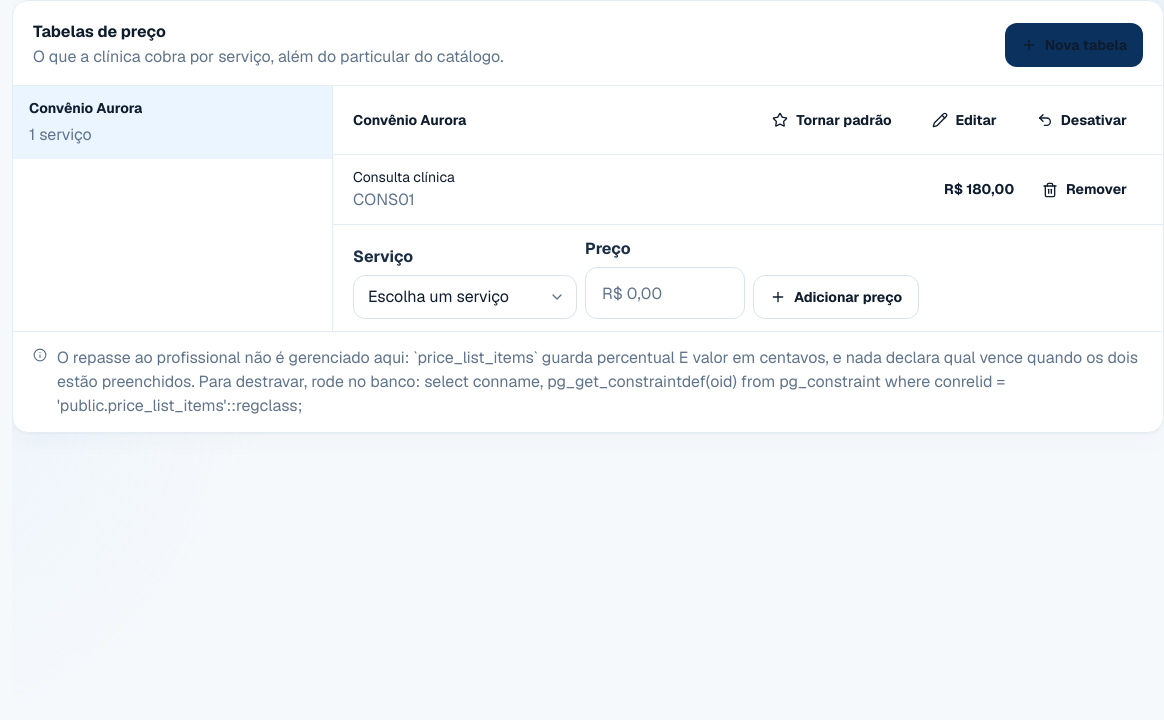
Test: preços › sem serviço escolhido, avisa em vez de gravar
Type "R$ 90,00" into the field labelled "Preço" at [665, 293], box [585,267,745,319]
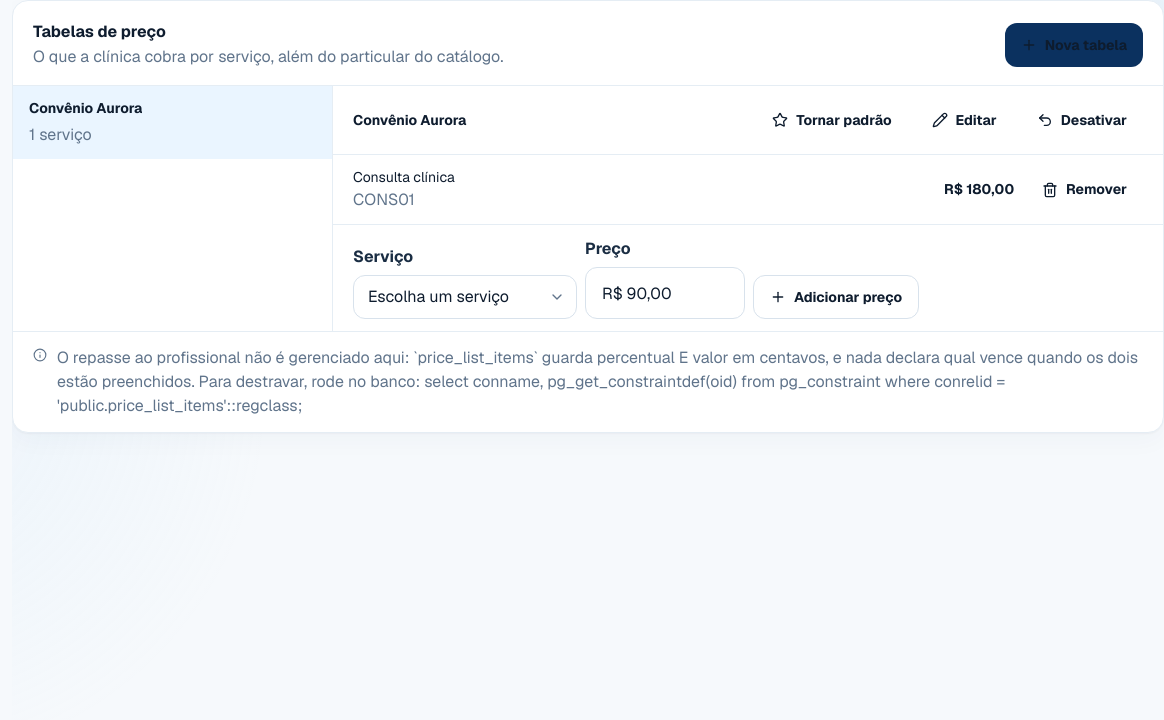
Click the button "Adicionar preço" at [836, 297], box [753,275,919,319]
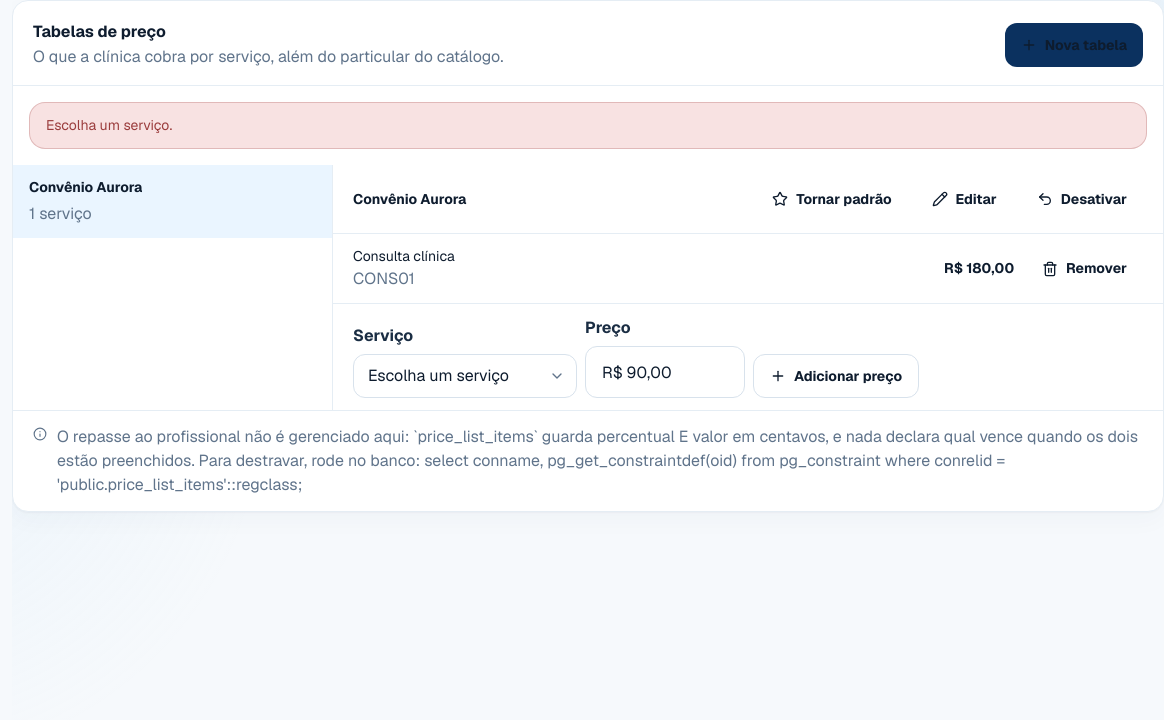
Expected: the message "Escolha um serviço." is shown, [29,102,1147,149]
